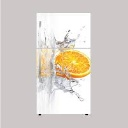orange: (52, 48, 92, 79)
